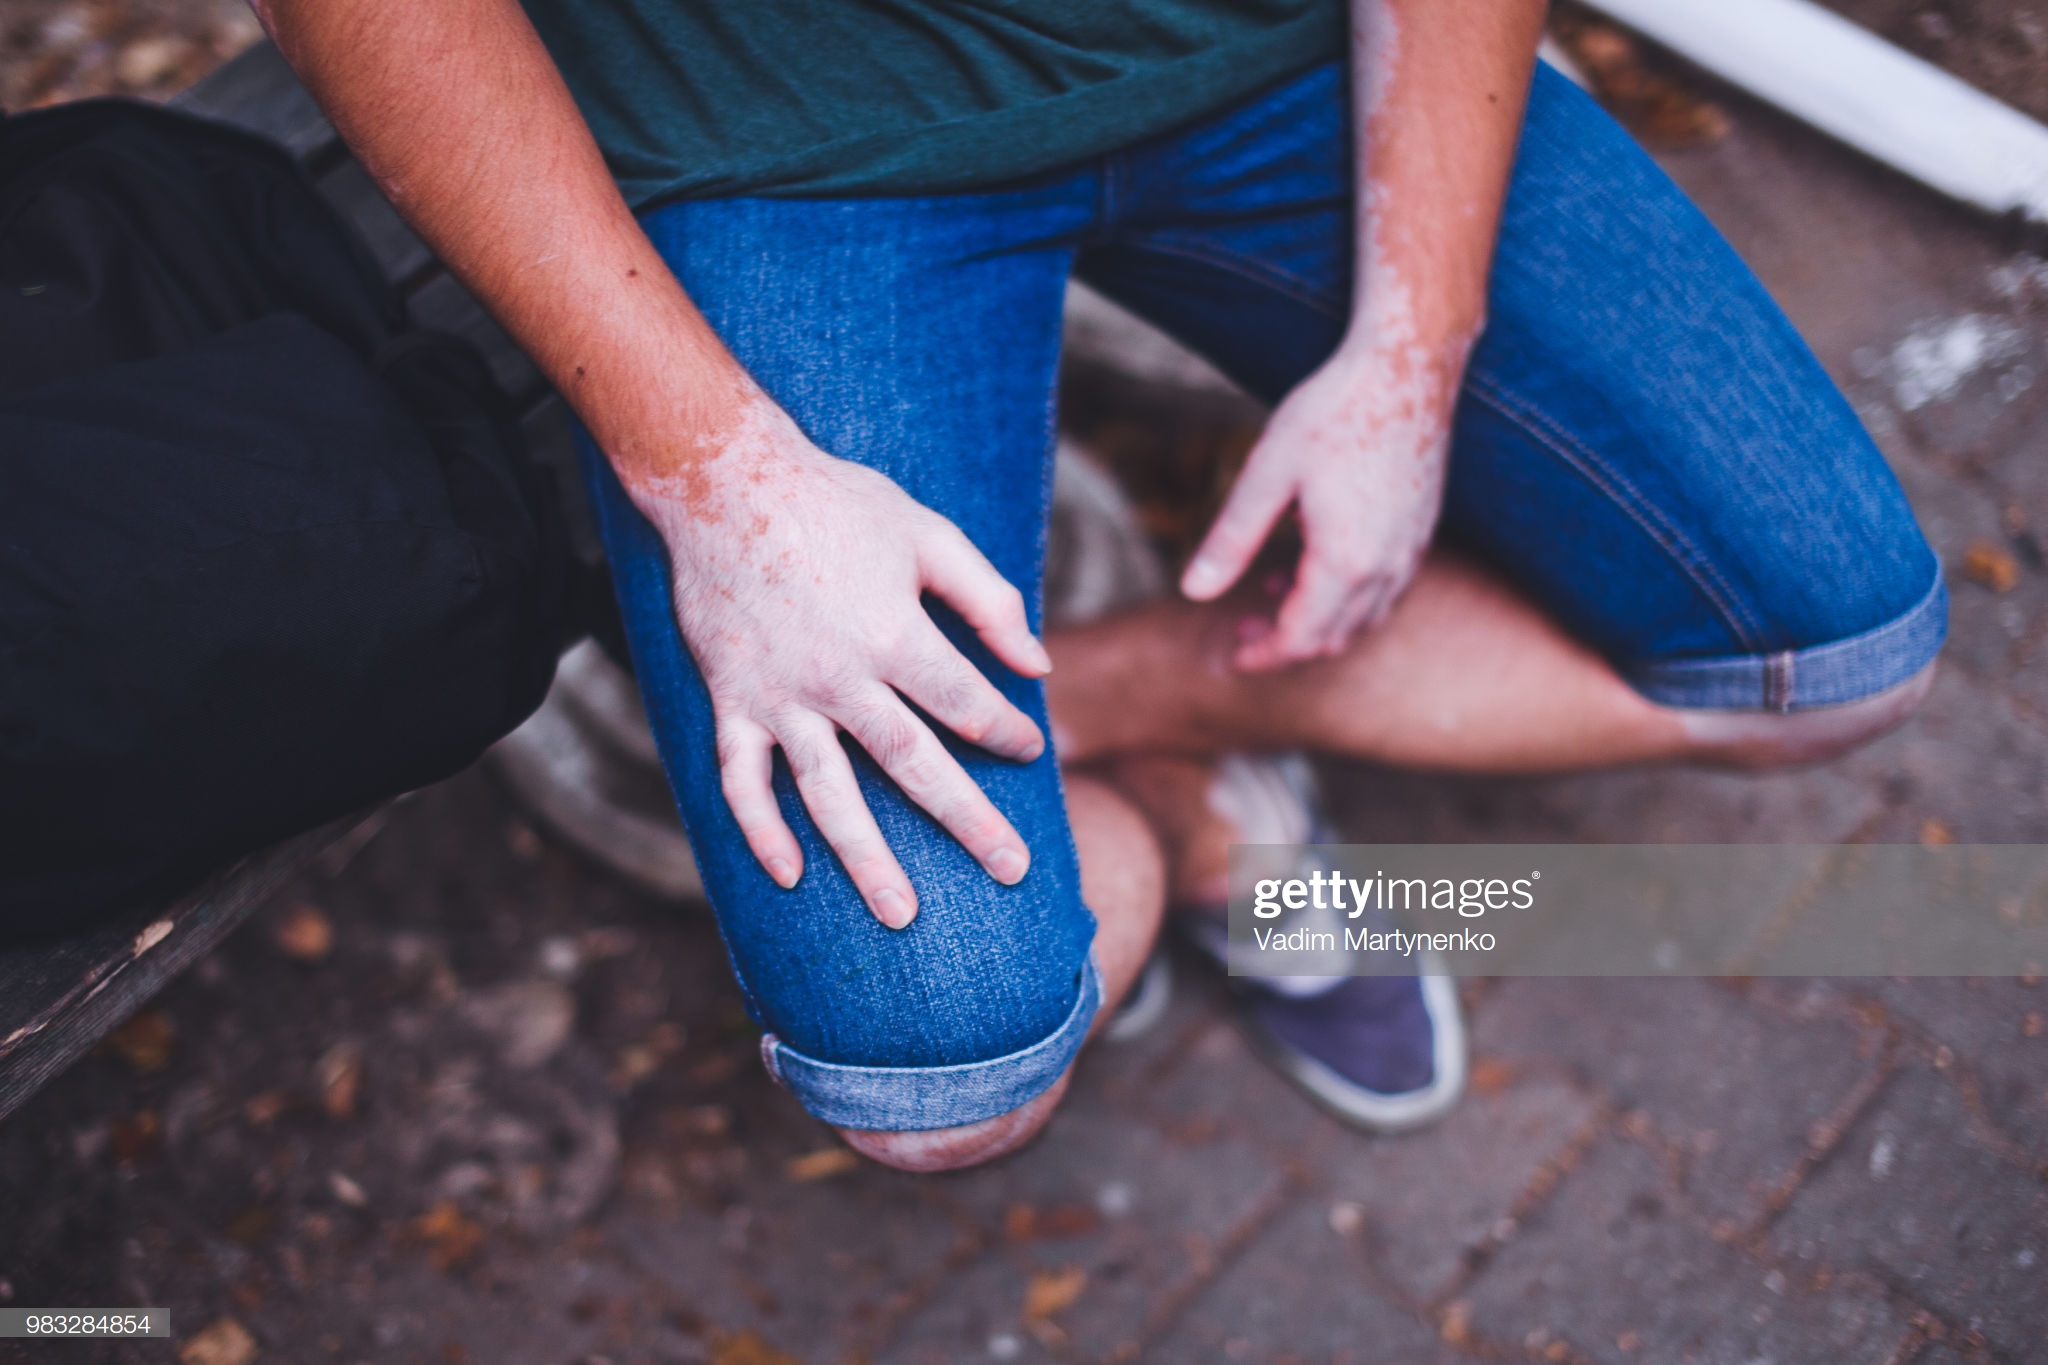vitiligo: (591, 385, 1045, 846)
